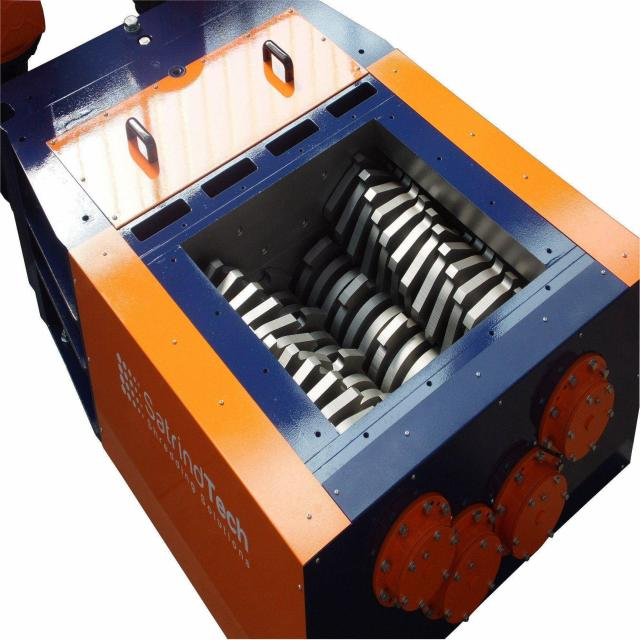Broyeur: (169, 105, 558, 456)
